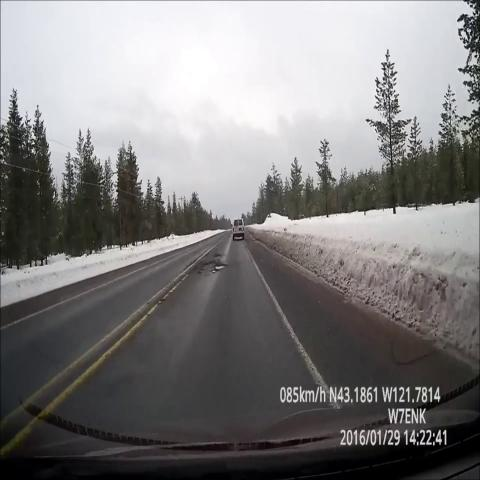pothole: (183, 255, 235, 294)
